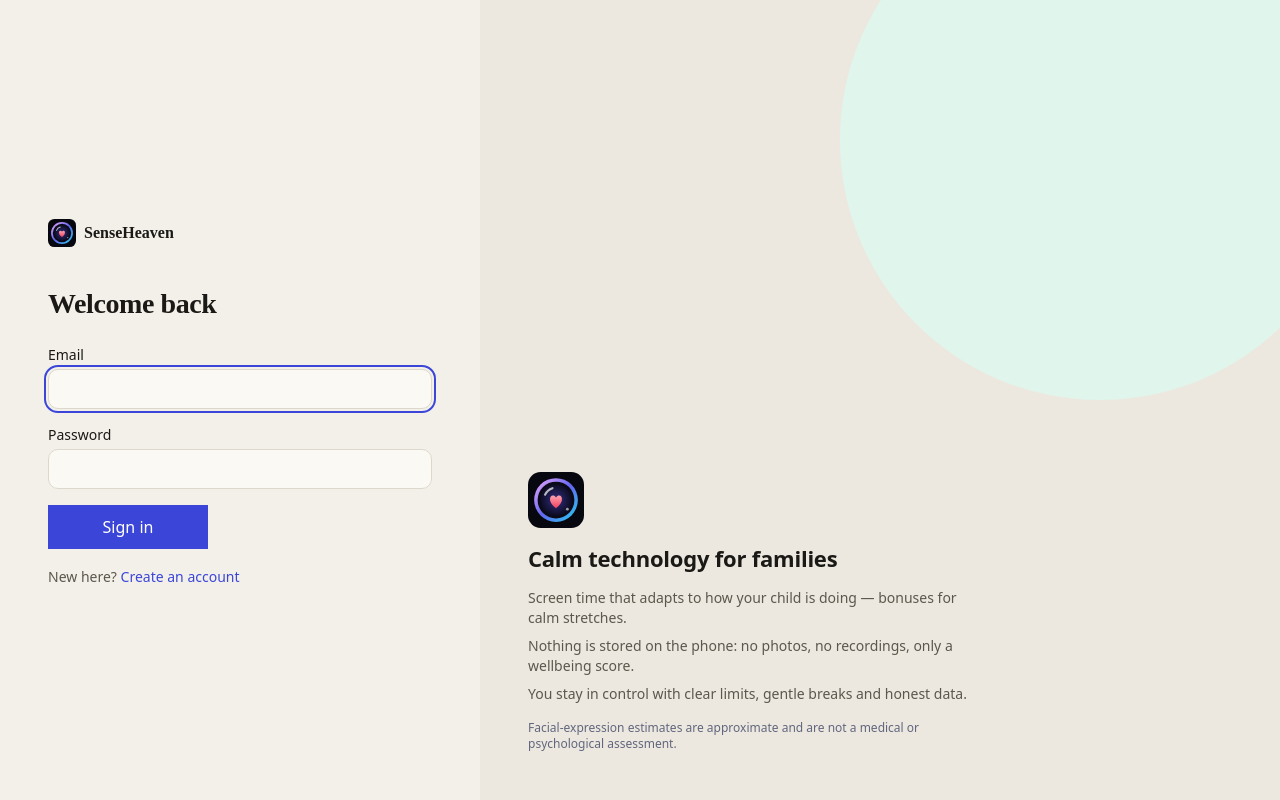
Scenario: auth pages (P4.7) › LoginPage maps INVALID_CREDENTIALS to the contract copy
Type "p@example.com" into the field labelled "Email".
click(240, 389); type("p@example.com")  # box x1=48 y1=369 x2=432 y2=409
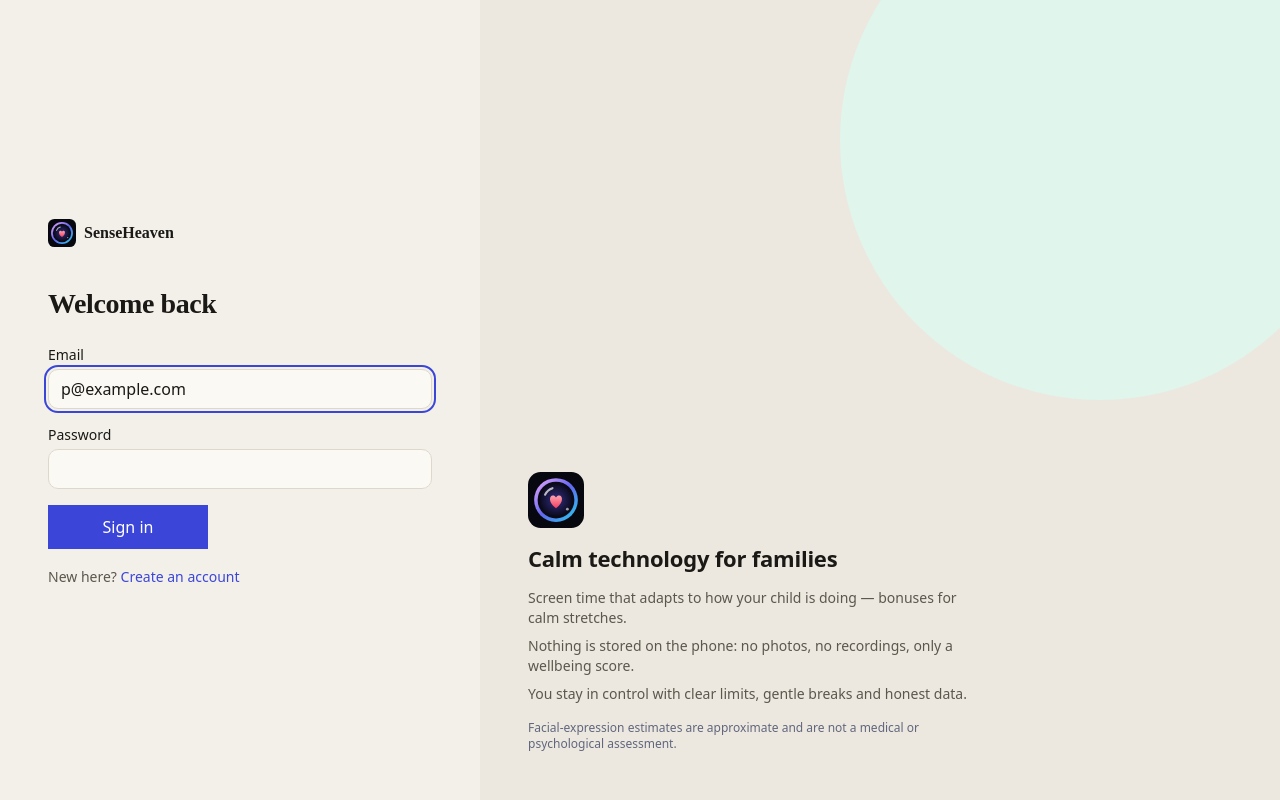
Type "wrong-password" into the password field labelled "Password".
click(240, 469); type("wrong-password")  # box x1=48 y1=449 x2=432 y2=489
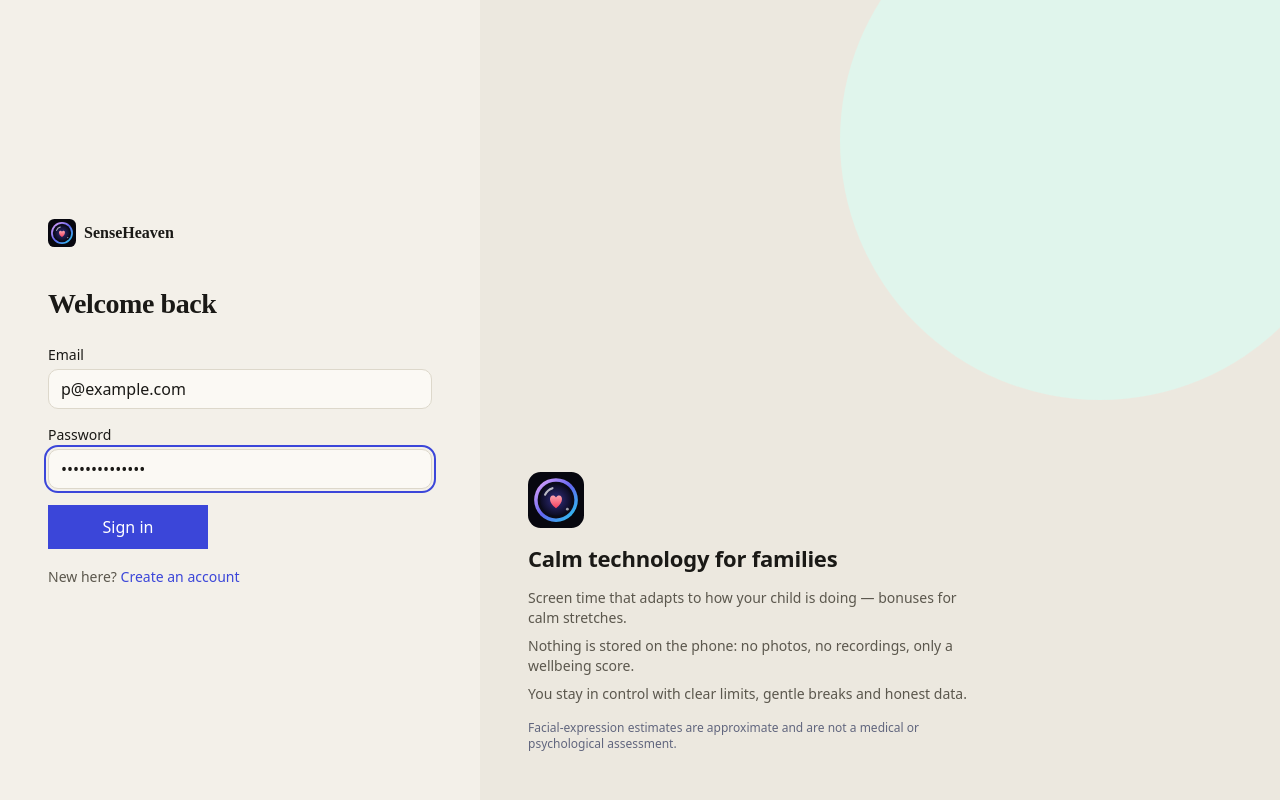
Click the button "Sign in".
click(128, 527)  # box x1=48 y1=505 x2=208 y2=549
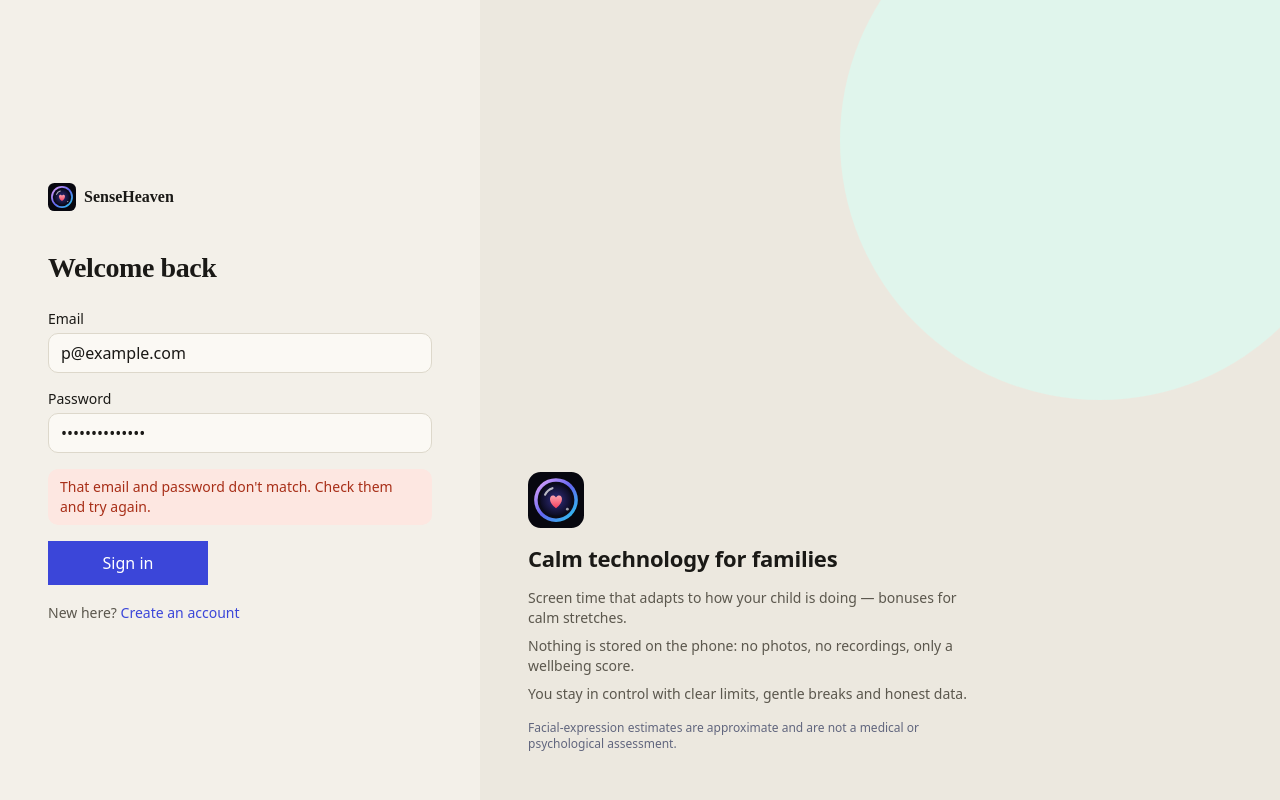
Check: the message shows "email and password don't match", box x1=60 y1=477 x2=393 y2=516
